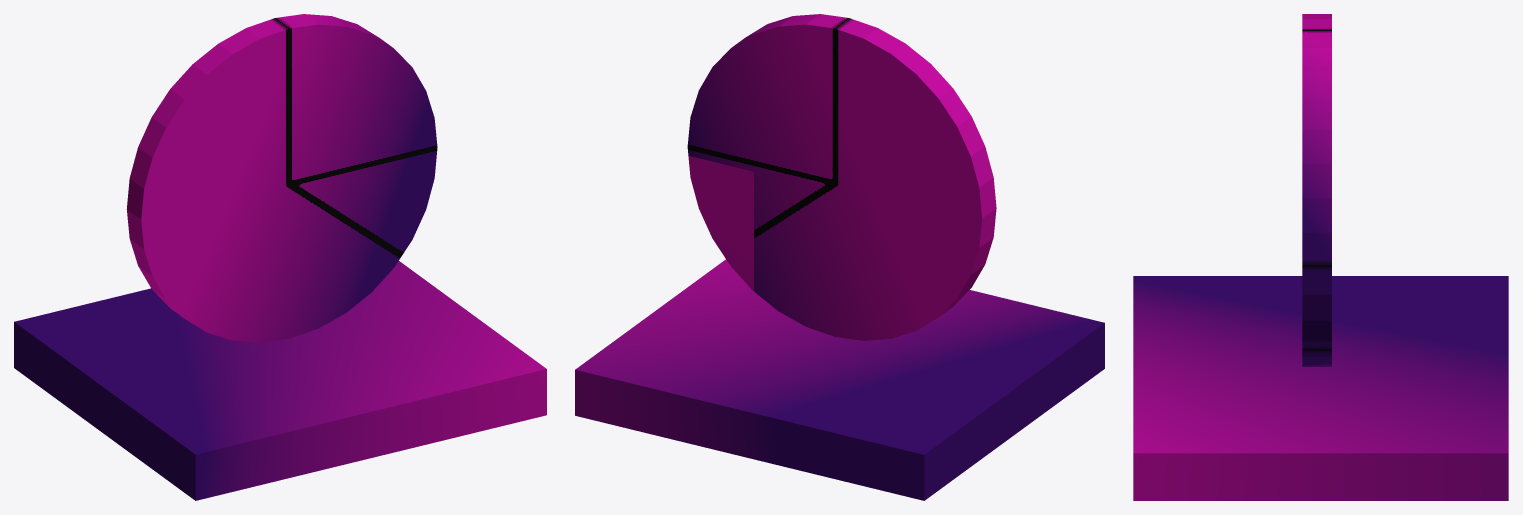
The model's file is 3_PYE_CHART.glb.
3 renders of one model, left to right at view 1: azimuth 30°, elevation 25°; view 2: azimuth 150°, elevation 25°; view 3: azimuth 270°, elevation 25°, orthographic. The views are drawn at different scales.
Parts seen in each view (by area): view 1: Cilindro, Cubo.001; view 2: Cilindro, Cubo.001; view 3: Cubo.001, Cilindro.
Boxes of the visible parts, box(x1,y1,x2,y2) form: Cilindro: box(126, 14, 437, 342); Cubo.001: box(14, 261, 546, 500); Cilindro: box(687, 14, 996, 340); Cubo.001: box(575, 259, 1104, 500); Cubo.001: box(1133, 276, 1508, 500); Cilindro: box(1302, 14, 1331, 366).
Bounding box in the file's own units: 1.79 × 1.8 × 1.6.
2 materials, 2 textured.
